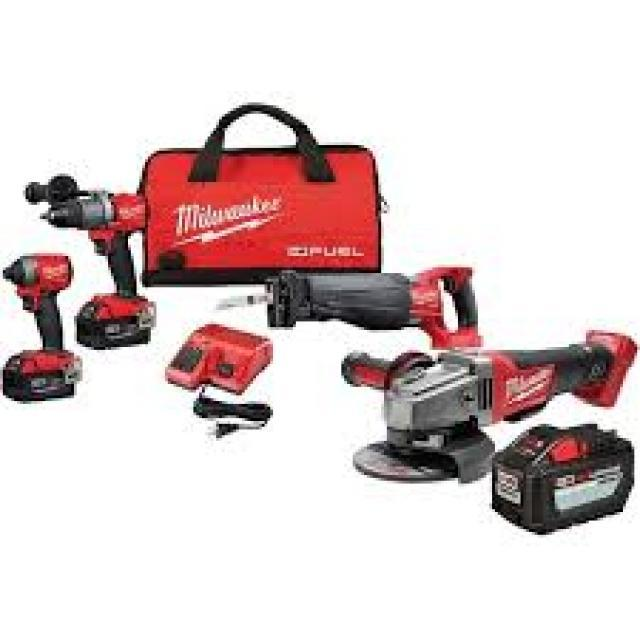drill: (37, 178, 166, 368), (0, 255, 91, 412)
